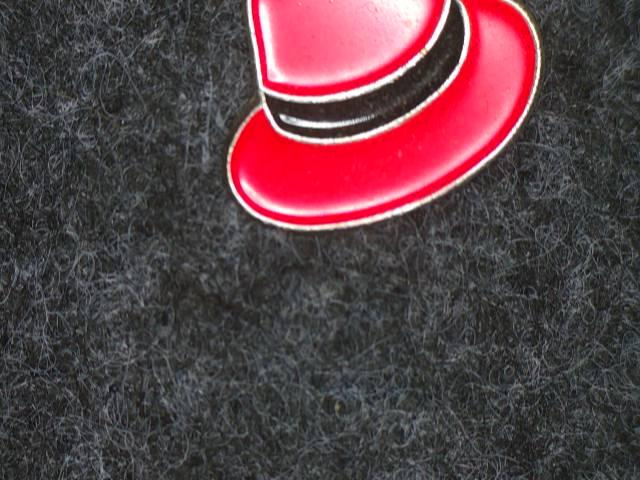Red-Hat: (207, 0, 566, 255)
